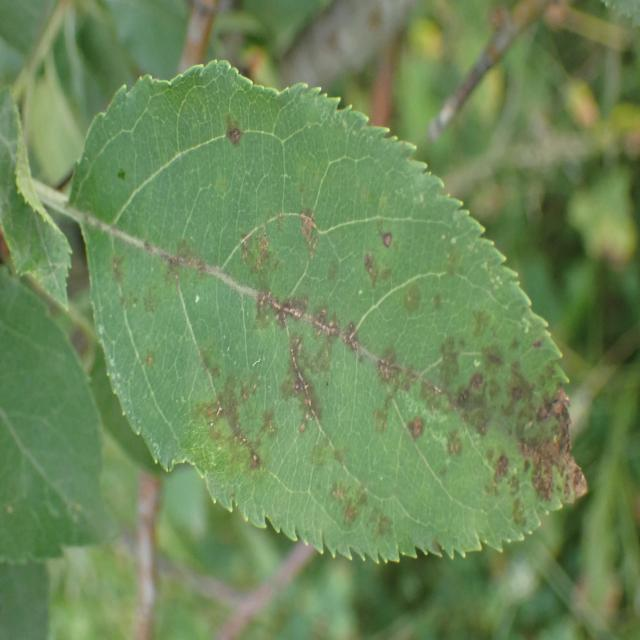scab: (95, 101, 586, 549)
